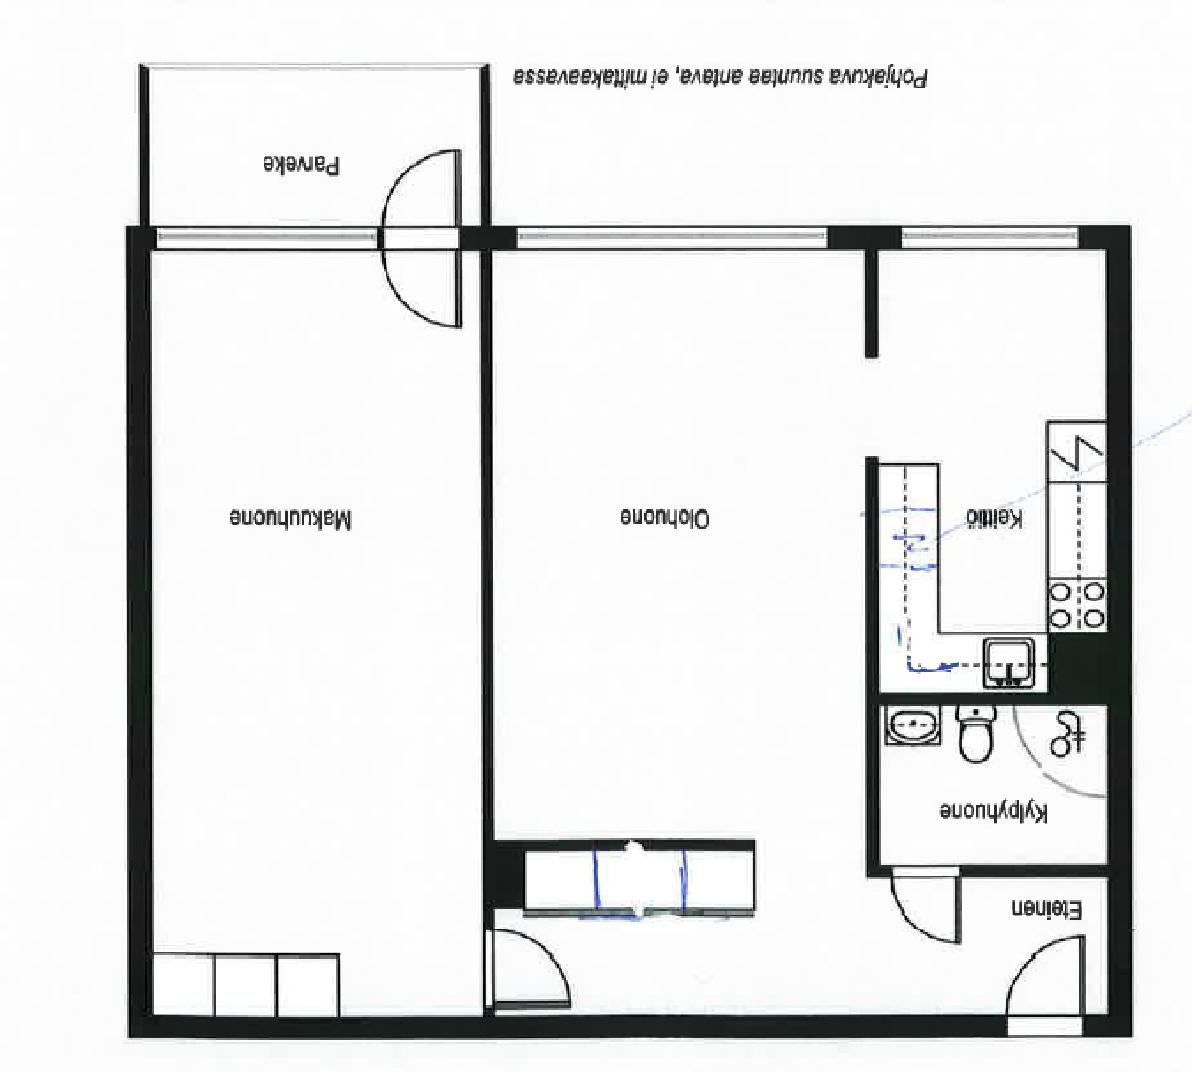door: (377, 147, 467, 338), (1002, 933, 1086, 1041), (482, 928, 578, 1010), (888, 864, 969, 949)
window: (518, 228, 824, 254), (157, 227, 378, 250), (902, 228, 1077, 252)
zone: (494, 249, 1106, 1015), (157, 254, 485, 1015), (148, 71, 479, 227), (880, 704, 1105, 867)
